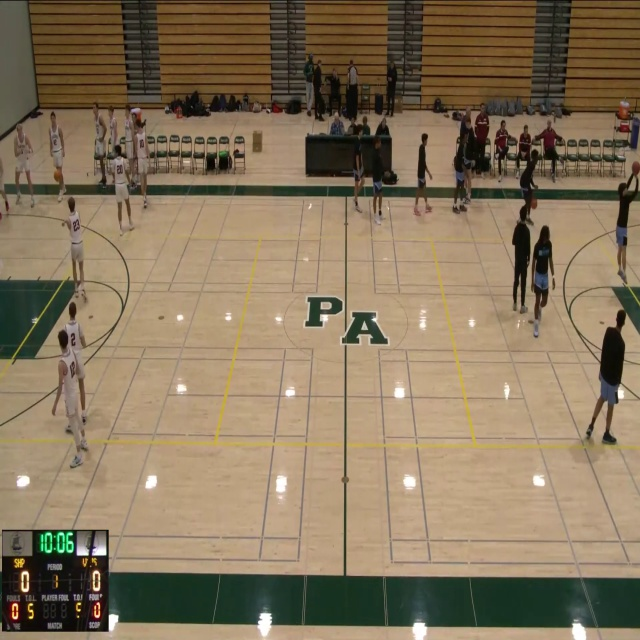Basketball: (631, 161, 640, 175), (54, 171, 62, 181), (530, 198, 537, 209)
